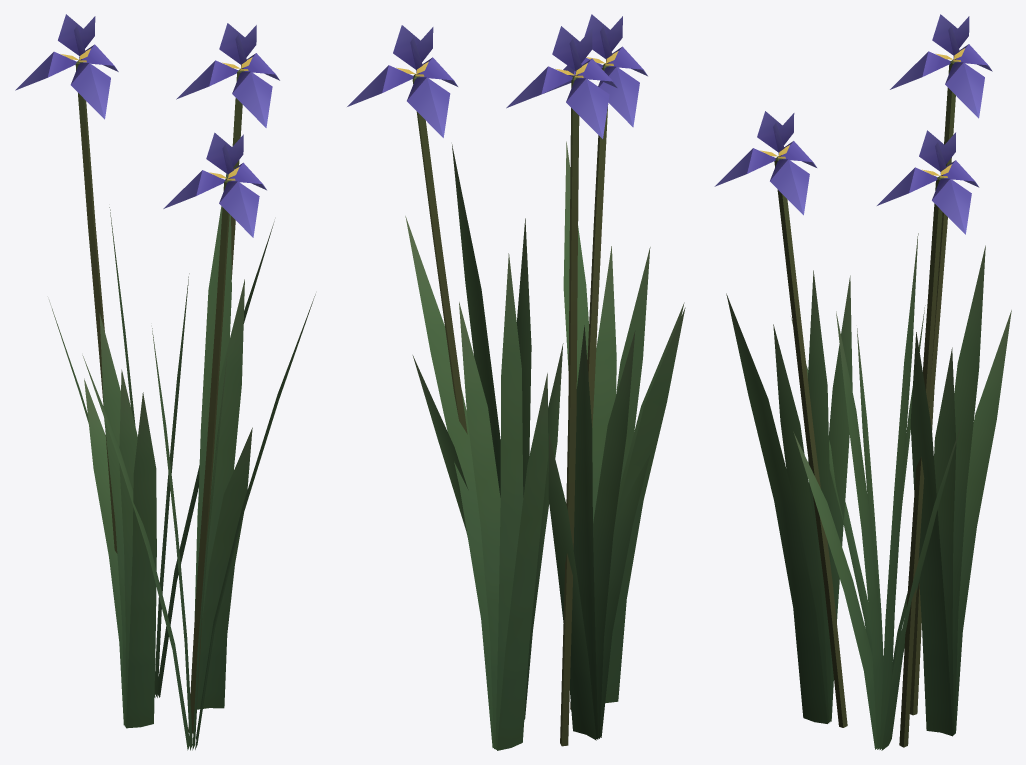
The model's file is iris-water.lod0.glb.
3 views of the same model, side by side, from view 1: azimuth 30°, elevation 25°; view 2: azimuth 150°, elevation 25°; view 3: azimuth 270°, elevation 25° (orthographic). The views are drawn at different scales.
Parts seen in each view (by area): view 1: iris_water_mesh; view 2: iris_water_mesh; view 3: iris_water_mesh.
Part boxes in pixels (box(x1,y1,x2,y2)): iris_water_mesh: box(15, 14, 315, 750); iris_water_mesh: box(347, 14, 685, 750); iris_water_mesh: box(714, 14, 1011, 750).
Bounding box in the file's own units: 0.4043 × 1.03 × 0.4089.
Materials: 1 (1 with a texture image).
